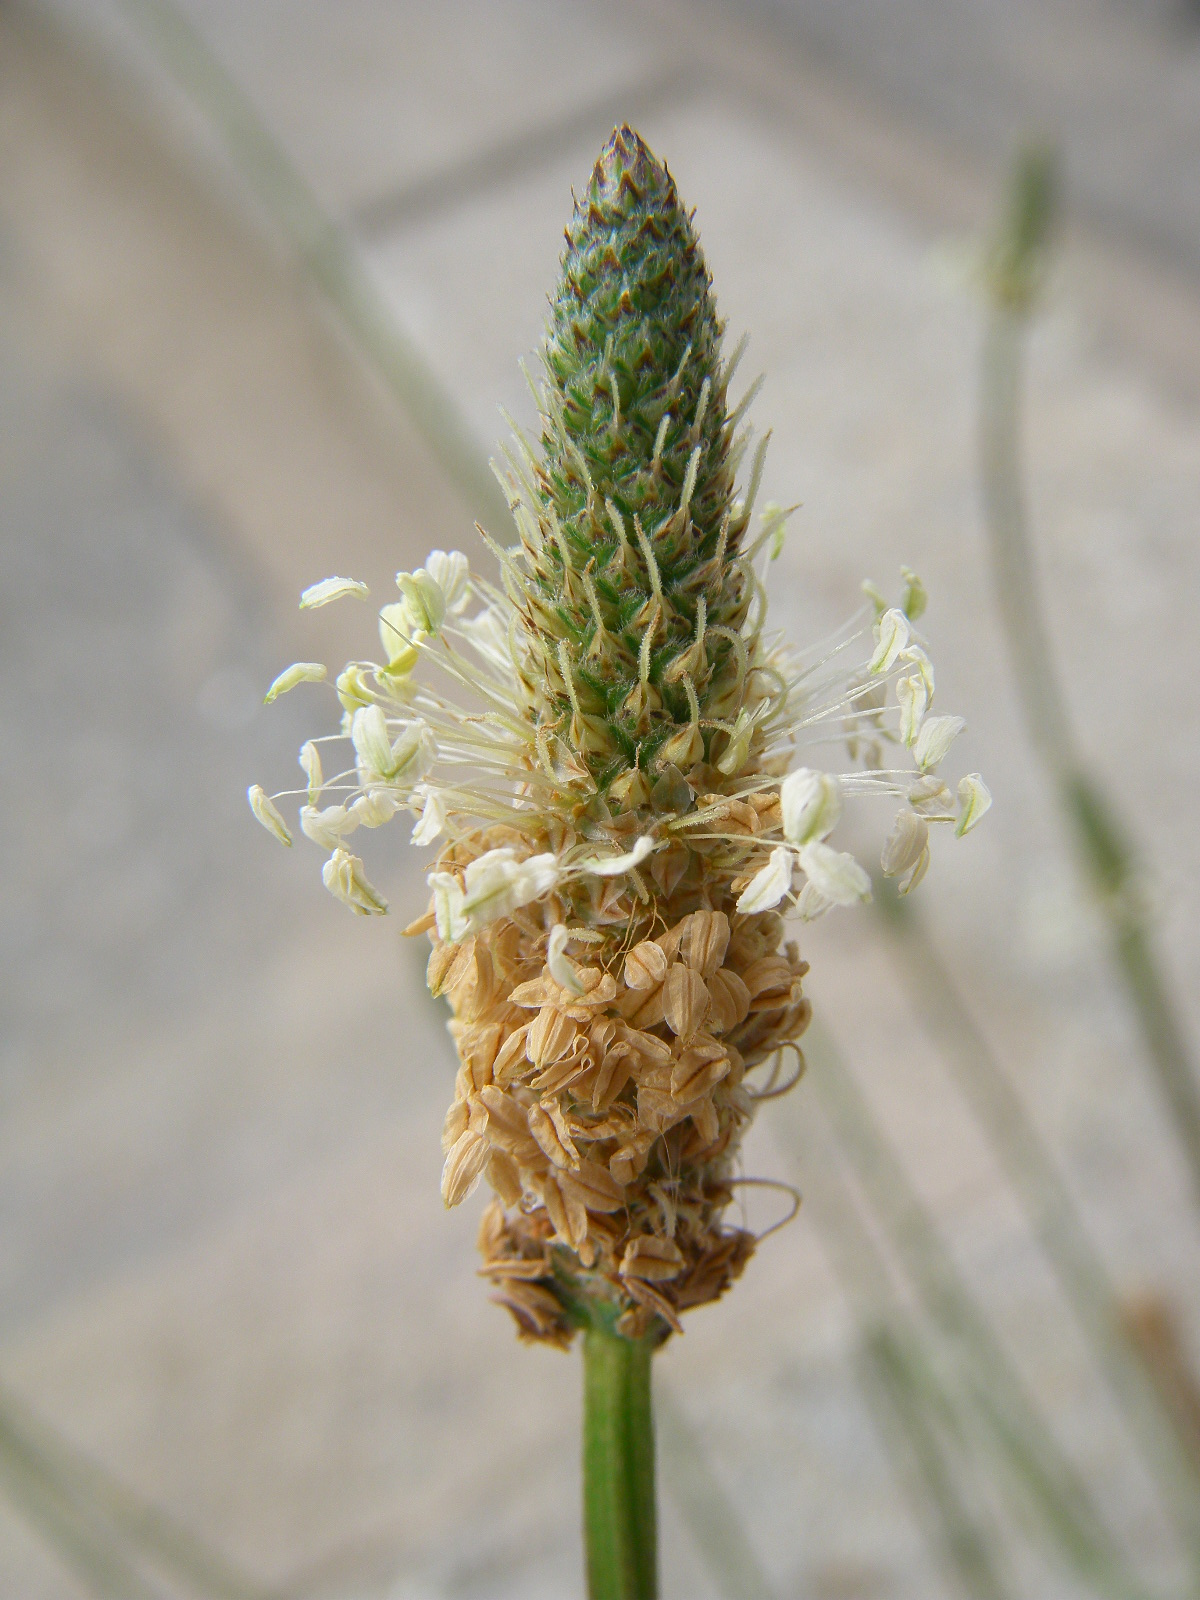buckhorn plantain: (345, 118, 944, 1545)
